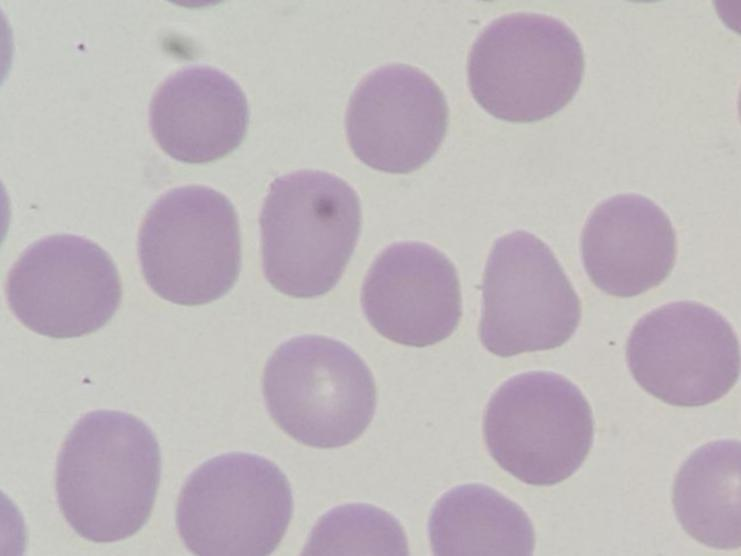Uninfected: (56, 408, 159, 541), (256, 169, 361, 299), (261, 335, 374, 455), (139, 185, 243, 311), (481, 369, 595, 483), (479, 232, 583, 356), (469, 13, 585, 123), (6, 236, 123, 339), (629, 302, 740, 409), (180, 452, 293, 556), (347, 60, 446, 176), (361, 240, 464, 351), (581, 190, 676, 295), (149, 68, 249, 164), (669, 433, 741, 551), (426, 483, 540, 556)
